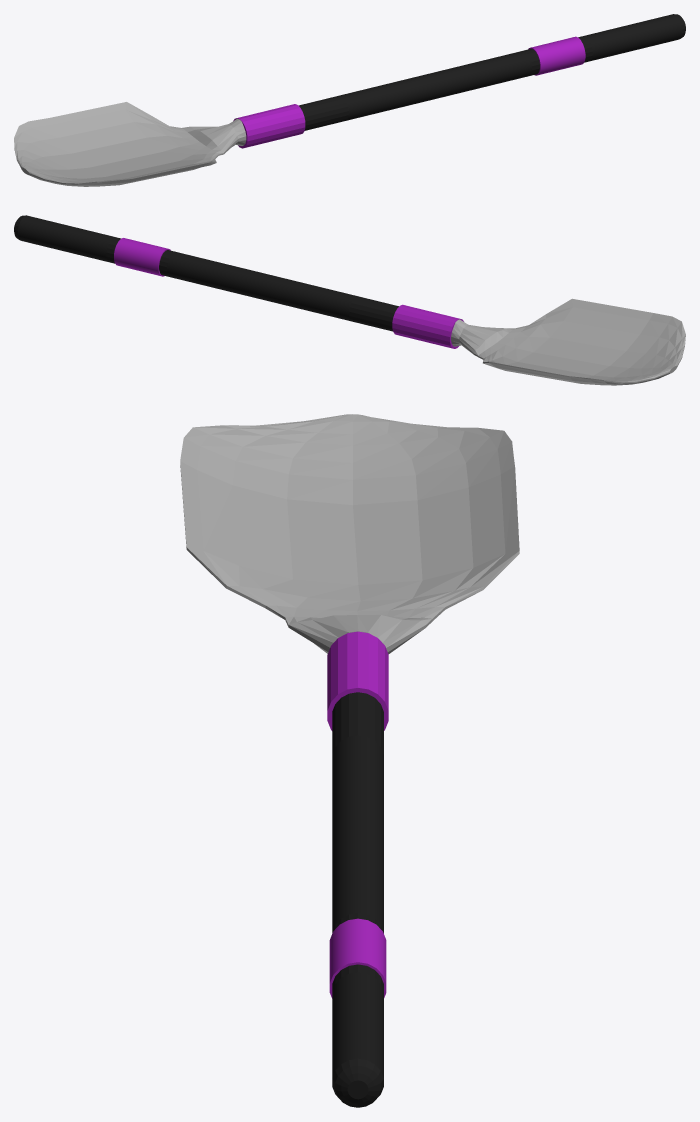
Rendered from mesh_pelle.fbx.
3 renders of one model, top to bottom at view 1: azimuth 30°, elevation 25°; view 2: azimuth 150°, elevation 25°; view 3: azimuth 270°, elevation 25°, orthographic. The views are drawn at different scales.
Parts seen in each view (by area): view 1: Pelle; view 2: Pelle; view 3: Pelle.
Boxes of the visible parts, <box> form: Pelle: <box>14,14,685,186</box>; Pelle: <box>14,215,685,385</box>; Pelle: <box>180,414,519,1107</box>.
Size of the model in its own units: 173 by 10.44 by 38.78.
